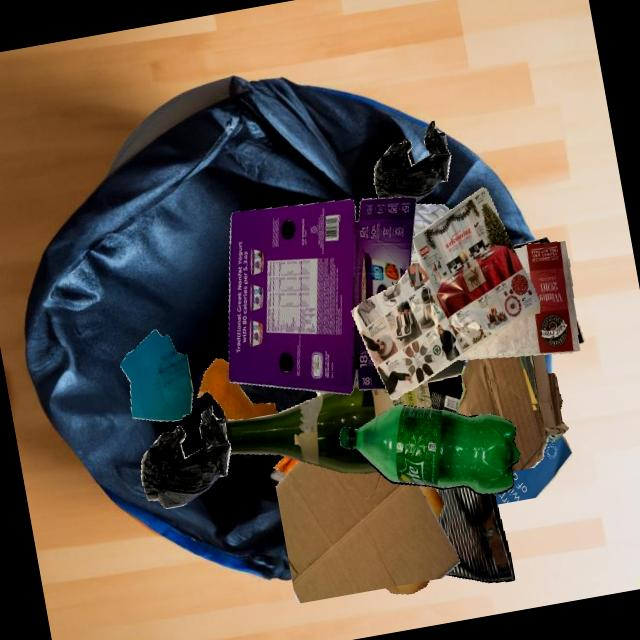biowaste: (290, 384, 357, 458), (197, 358, 277, 419), (418, 485, 443, 518), (385, 580, 429, 593)
cardboard: (228, 197, 416, 394), (275, 460, 460, 603), (456, 354, 568, 471), (465, 248, 575, 359)
glass: (222, 379, 432, 473), (427, 374, 463, 413)
metal: (434, 486, 515, 582)
paper: (350, 187, 539, 399), (457, 241, 579, 359), (119, 329, 193, 421), (494, 434, 573, 505), (410, 203, 450, 265), (268, 469, 285, 484)
plastic: (339, 404, 519, 494), (141, 406, 231, 508), (374, 121, 450, 202)
